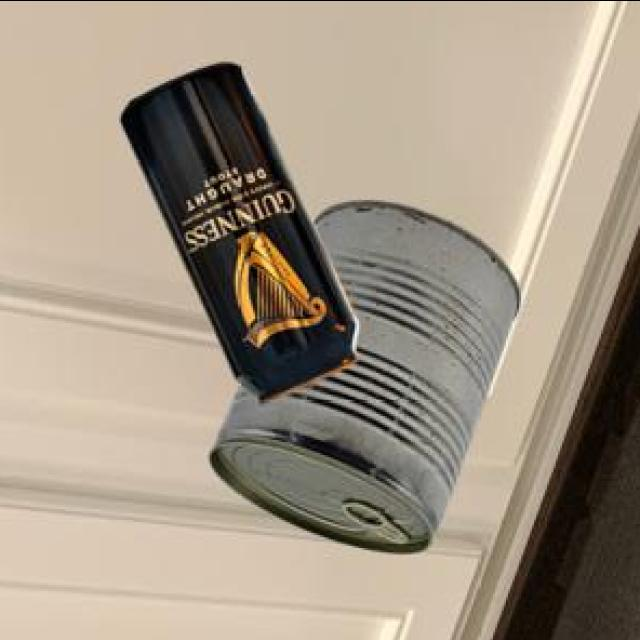logam: (206, 204, 516, 557), (118, 66, 356, 405)
